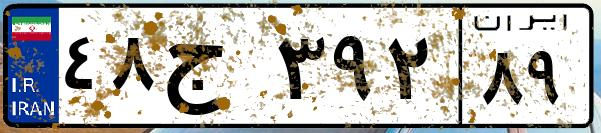2: (385, 28, 445, 110)
3: (270, 28, 330, 110)
4: (57, 26, 110, 100)
8: (475, 38, 525, 113), (110, 28, 158, 98)
9: (330, 28, 385, 110), (525, 38, 570, 115)
ج: (158, 20, 270, 120)
